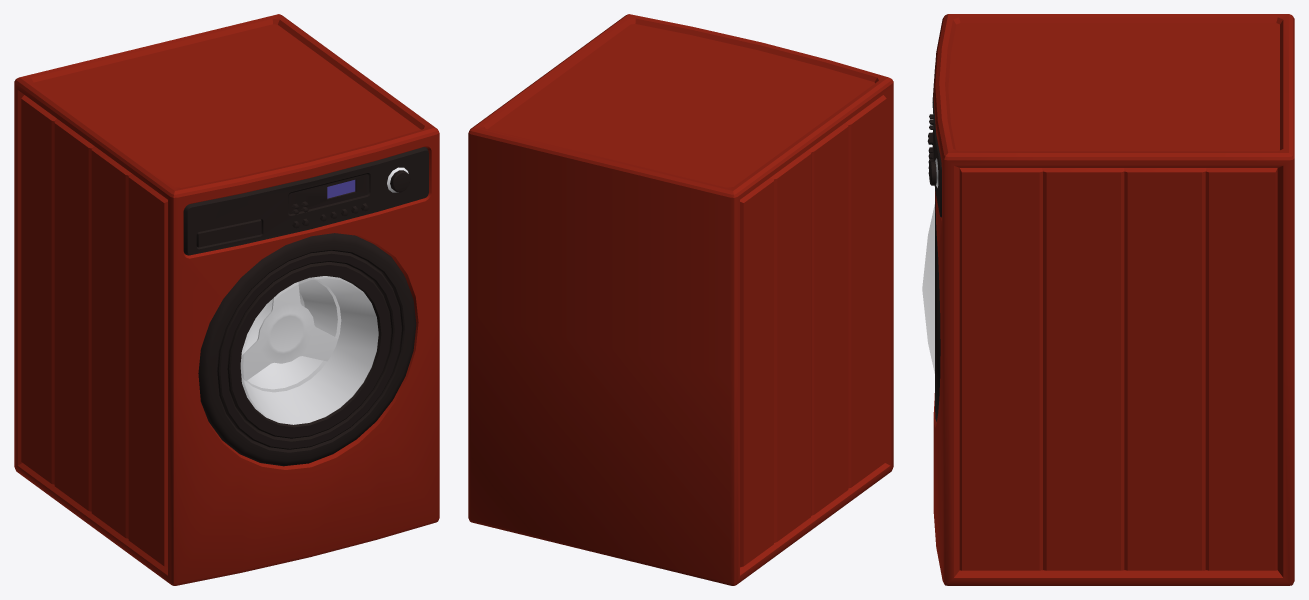
The picture shows the model from 3 angles, left to right: view 1: azimuth 30°, elevation 25°; view 2: azimuth 150°, elevation 25°; view 3: azimuth 270°, elevation 25°; orthographic projection. The views are drawn at different scales.
Parts seen in each view (by area): view 1: Wd8752c9x; view 2: Wd8752c9x; view 3: Wd8752c9x.
Part boxes in pixels (x1,y1,x2,y2): Wd8752c9x: [14, 14, 439, 585]; Wd8752c9x: [468, 14, 893, 585]; Wd8752c9x: [922, 14, 1294, 585].
Size of the model in its own units: 1519 by 2134 by 1664.
